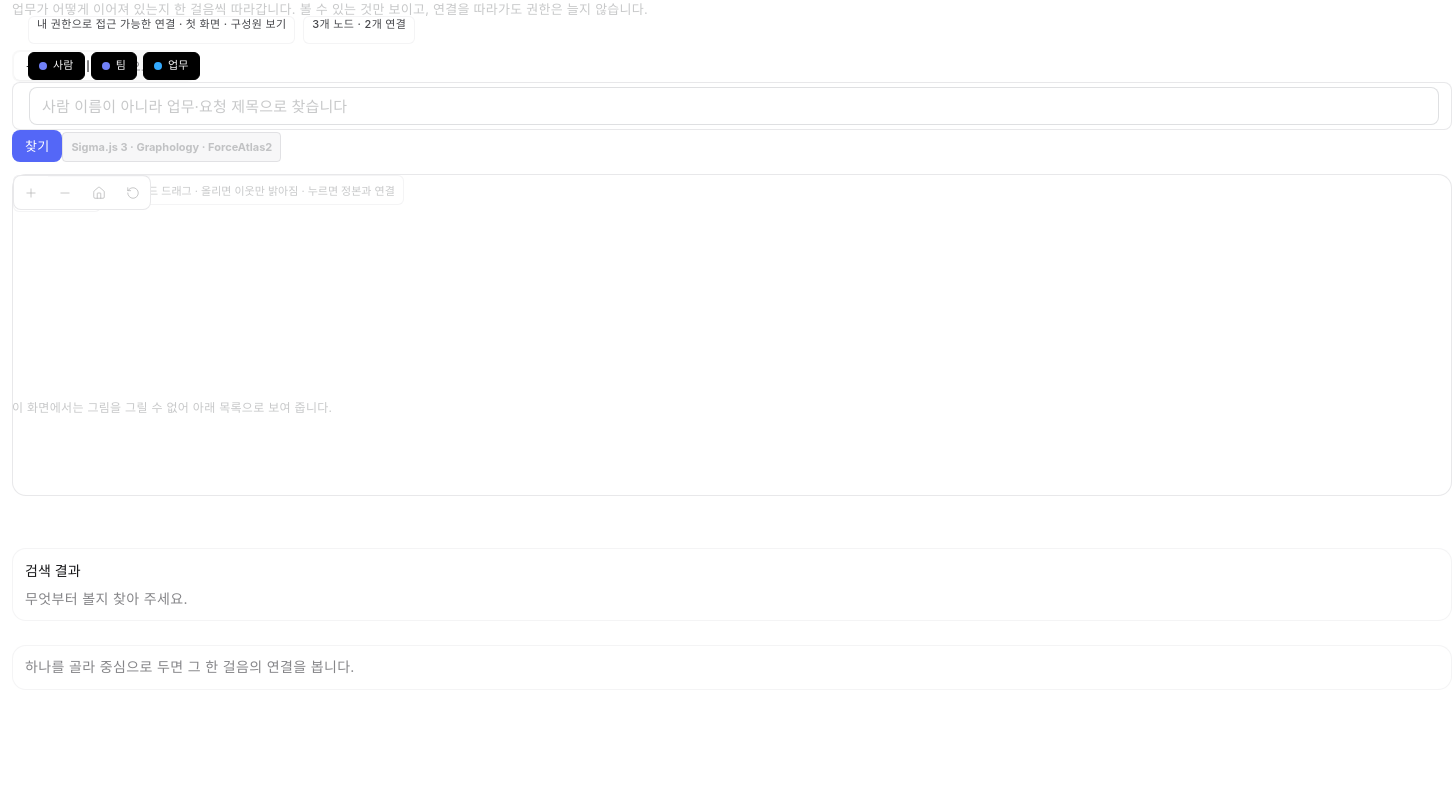
Test: 보는 방식 › hides a kind on request without asking a different question
Expected: the text "3개 노드 · 2개 연결" is shown, [303,16,415,44]
Click the button "팀" at (114, 66), box [91,52,137,80]
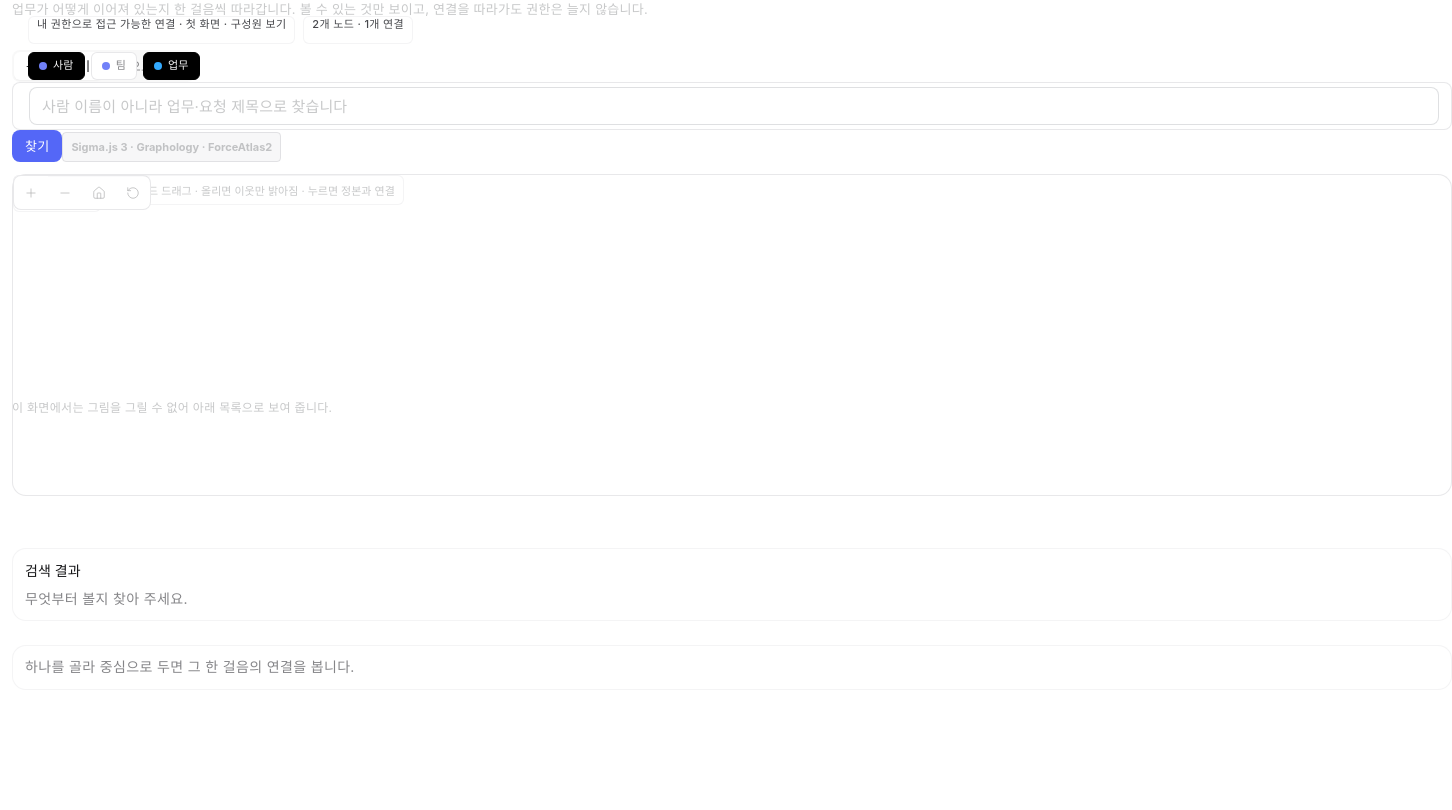
Expected: the text "2개 노드 · 1개 연결" is shown, [303,16,413,44]
